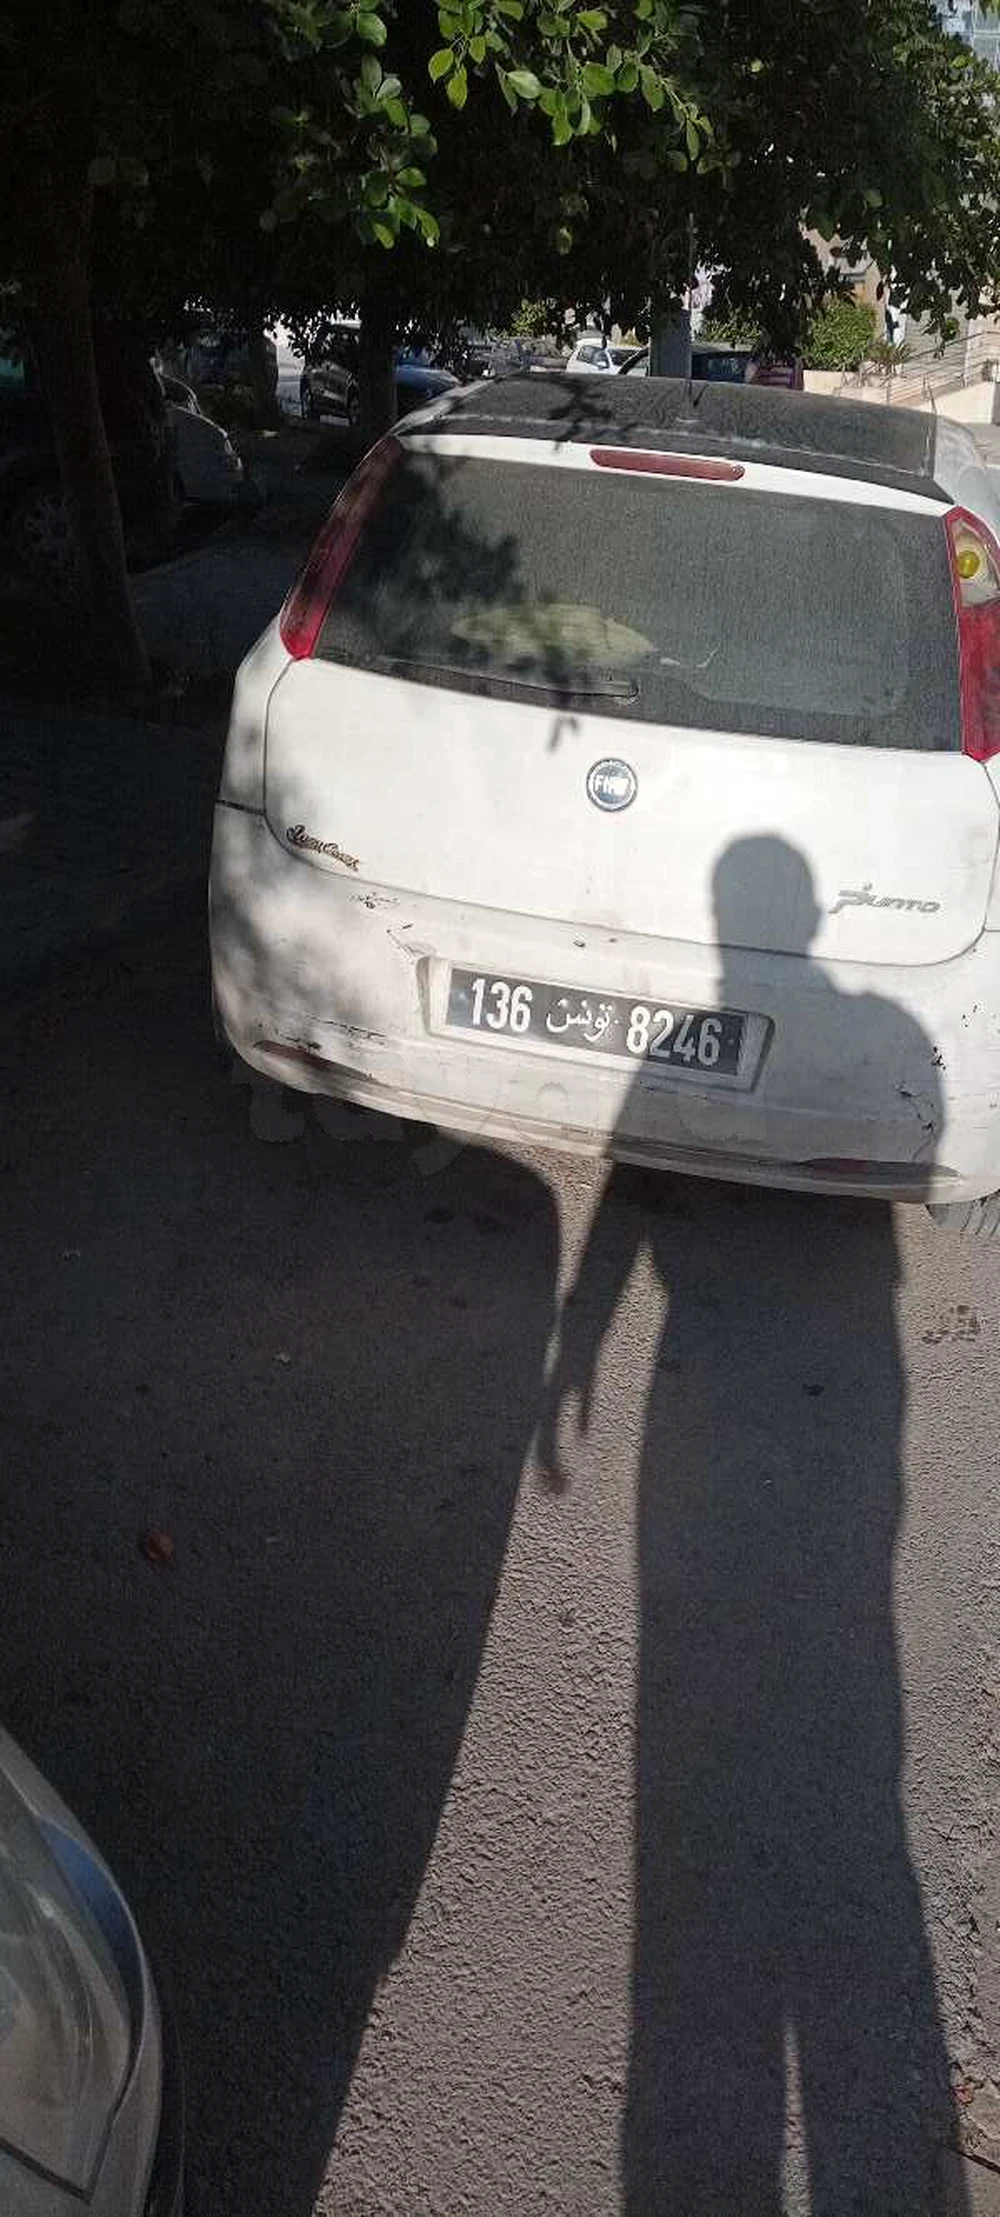fiat: (222, 339, 1000, 1263)
